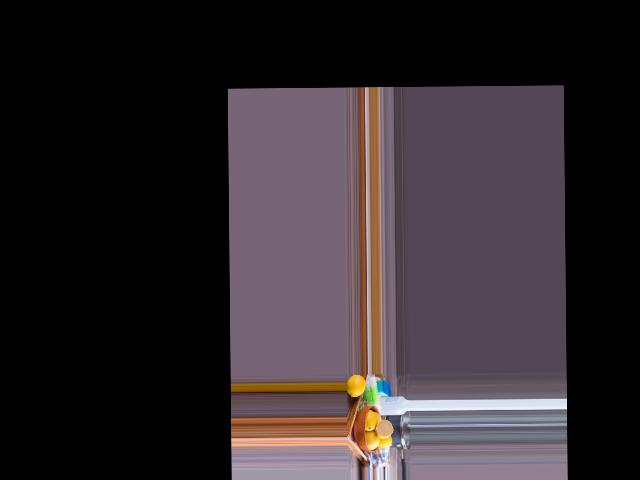lemon: (346, 374, 365, 398)
